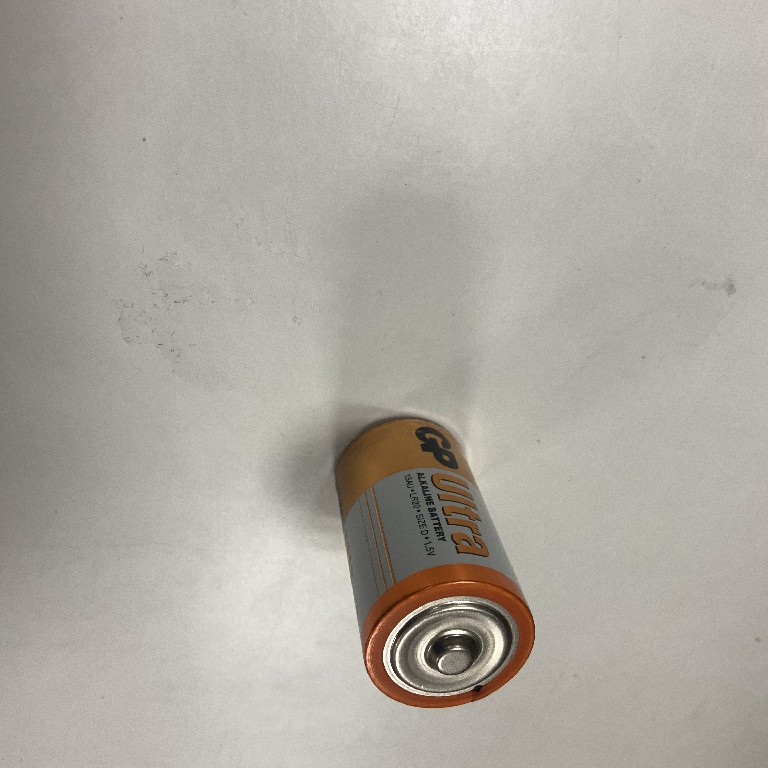charge: (325, 405, 540, 712)
